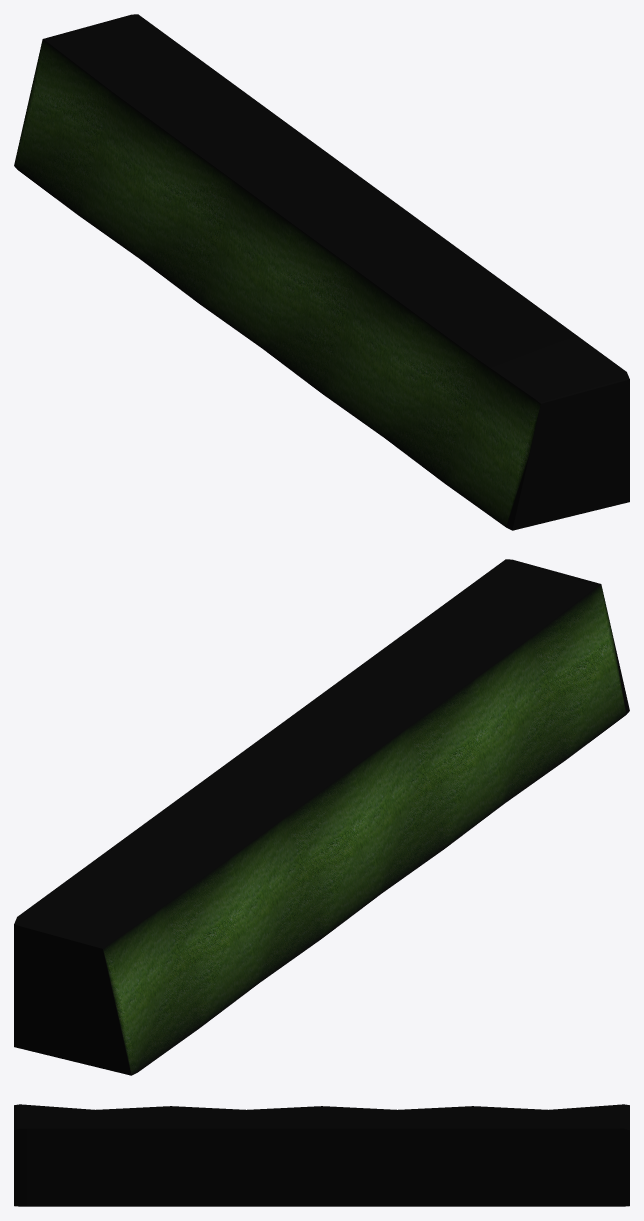
File: AMB_DOTE.glb
The picture shows the model from 3 angles, top to bottom: view 1: azimuth 30°, elevation 25°; view 2: azimuth 150°, elevation 25°; view 3: azimuth 270°, elevation 25°; orthographic projection. The views are drawn at different scales.
Parts seen in each view (by area): view 1: Mesh1; view 2: Mesh1; view 3: Mesh1.
Boxes of the visible parts, <box> form: Mesh1: <box>14,14,629,530</box>; Mesh1: <box>14,559,629,1075</box>; Mesh1: <box>14,1104,629,1206</box>.
Size of the model in its own units: 14.38 by 14.24 by 102.
1 material, 1 textured.
